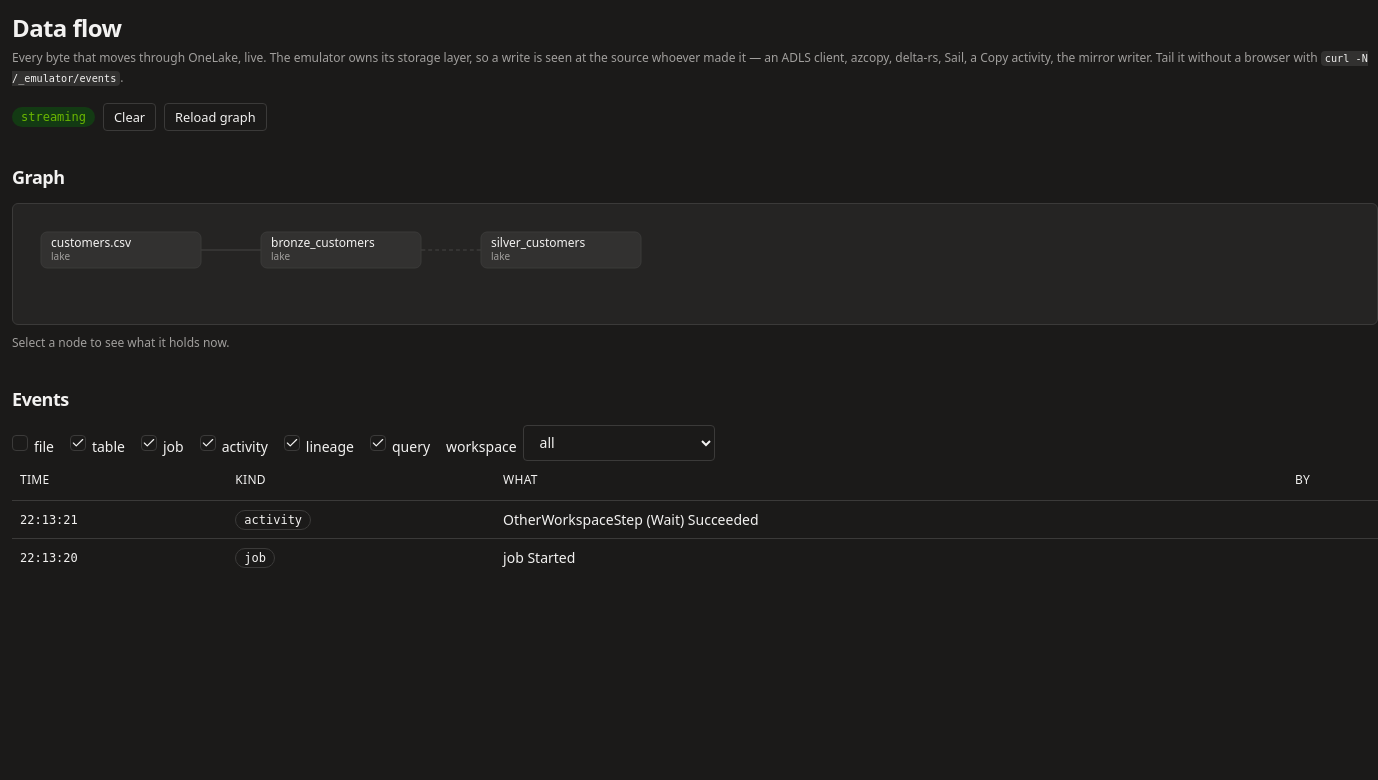
Test: Flow › filters the log by workspace as well as by kind
Expected: the text "bronze_customers" is shown, [271,234,375,251]
Expected: the text "OtherWorkspaceStep (Wait) Succeeded" is shown, [495,501,1287,539]
Select "Analytics" in the dropdown labelled "workspace". click: {"x": 619, "y": 443}
box: [523,425,715,461]
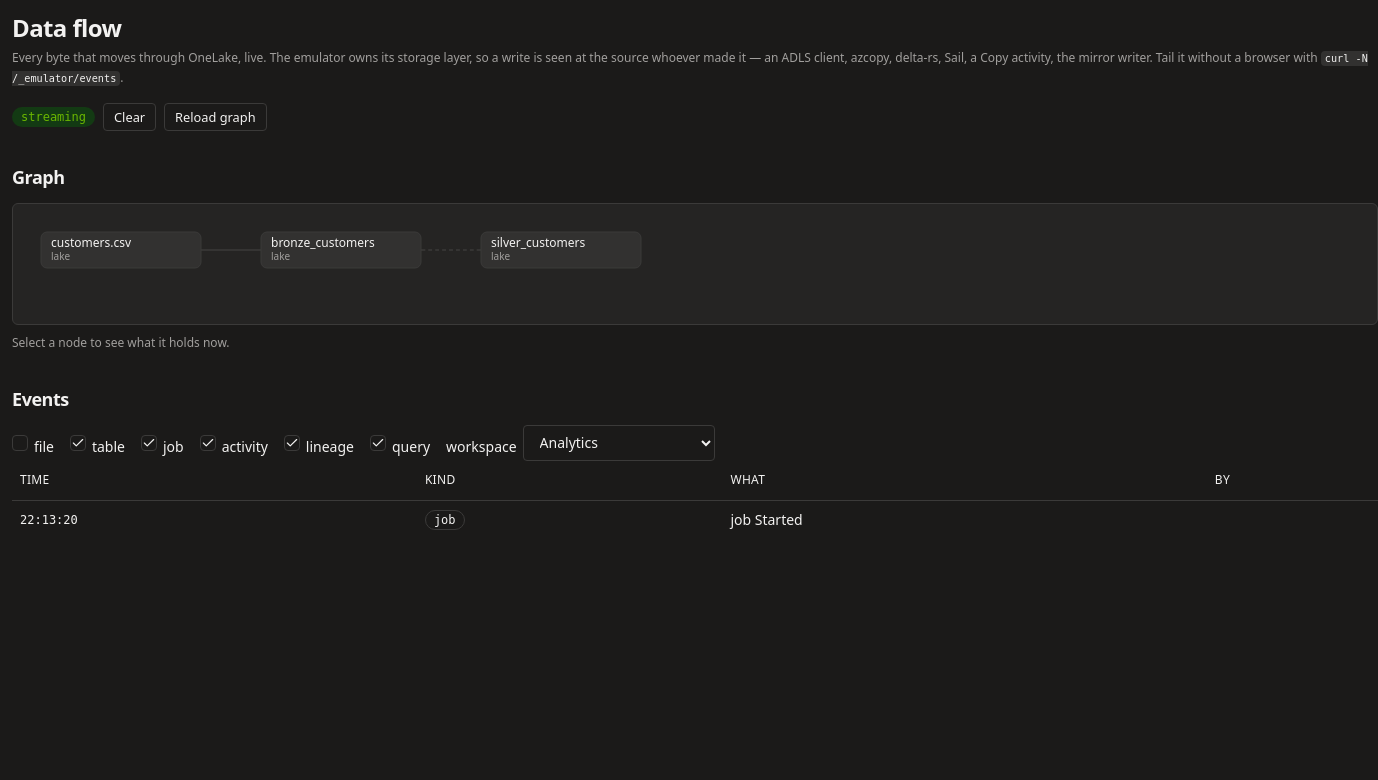
Expected: the text "job Started" is shown, [722,501,1207,538]
Expected: the text "OtherWorkspaceStep" is gone
